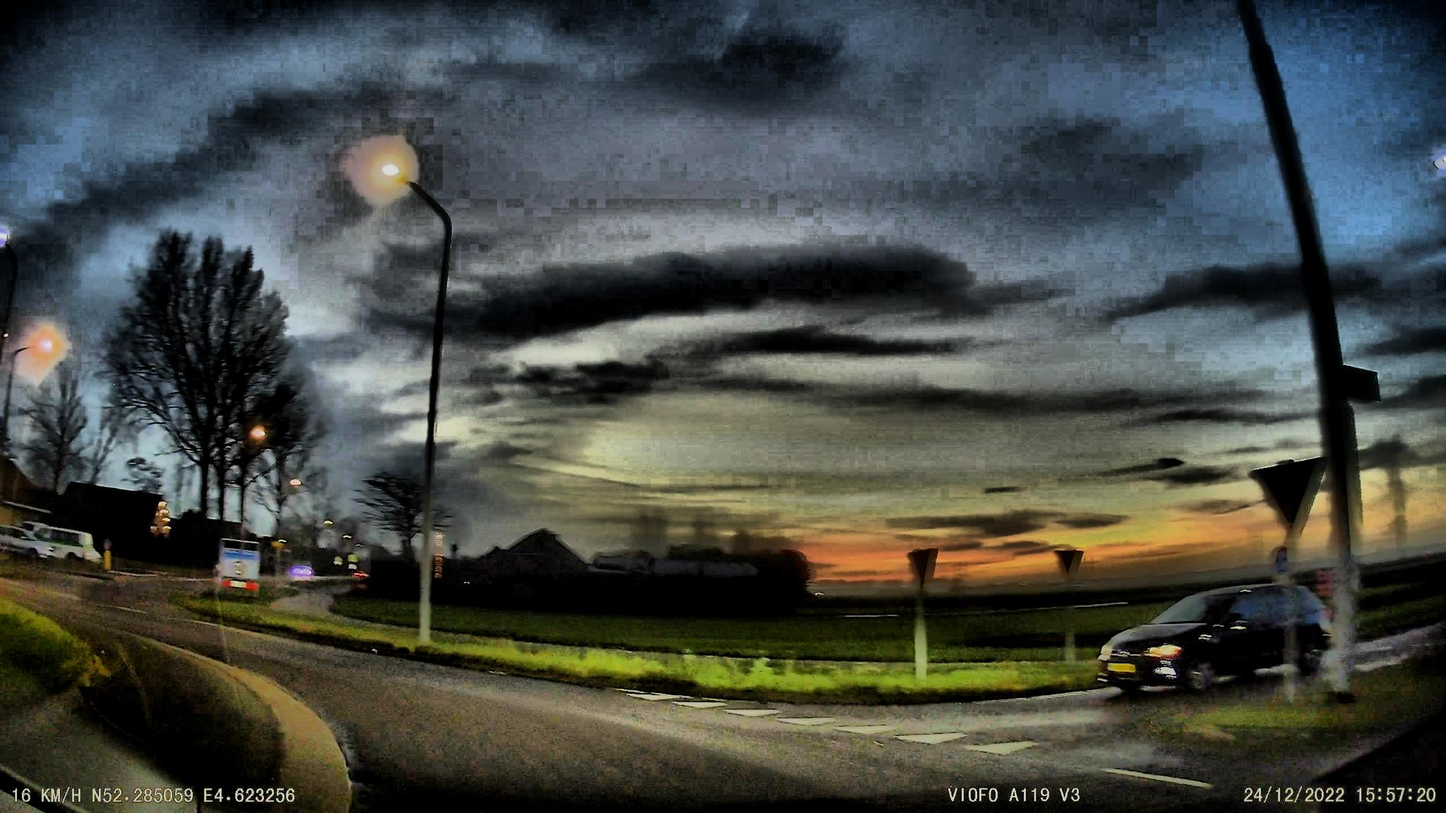Roads: (120, 618, 1446, 813)
